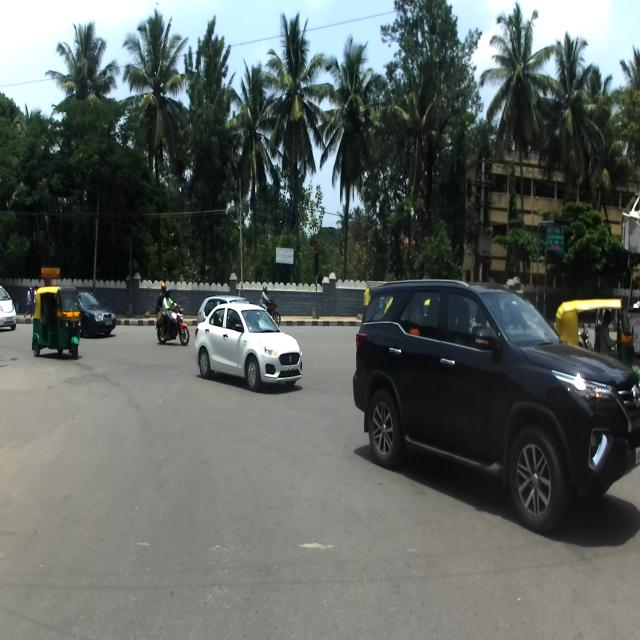auto ahead at: (33, 279, 84, 365)
car ahead at: (348, 275, 640, 530), (194, 297, 303, 395)
